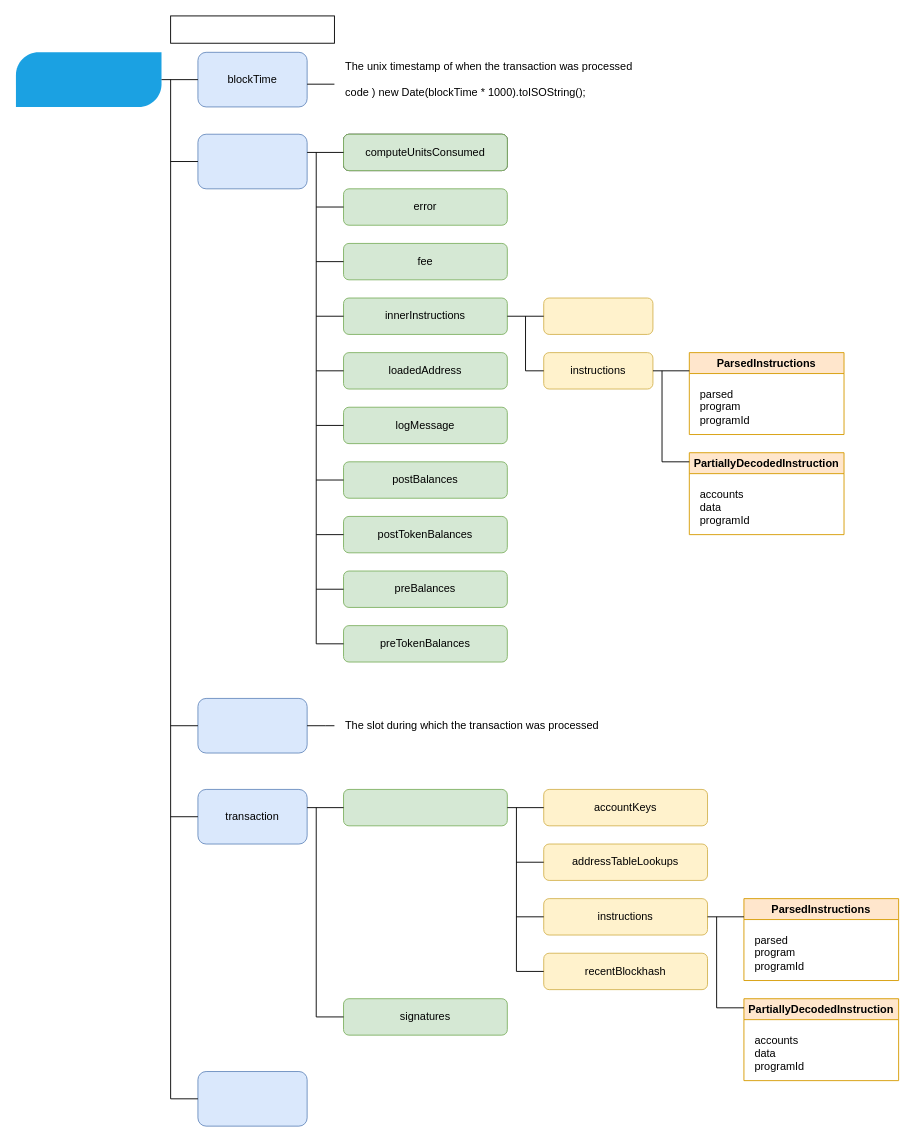
Some shapes in this 915 by 1142 pixel diagram are drawn without their labels. The shapes that lost their labels are listed below. From the top down, each one's centre as x and y in pixels, then its label:
(252,29): ParsedTransactionWithMeta
(88,79): getParsedTransactions
(252,161): meta
(598,315): index
(252,725): slot
(425,807): message
(252,1098): version
